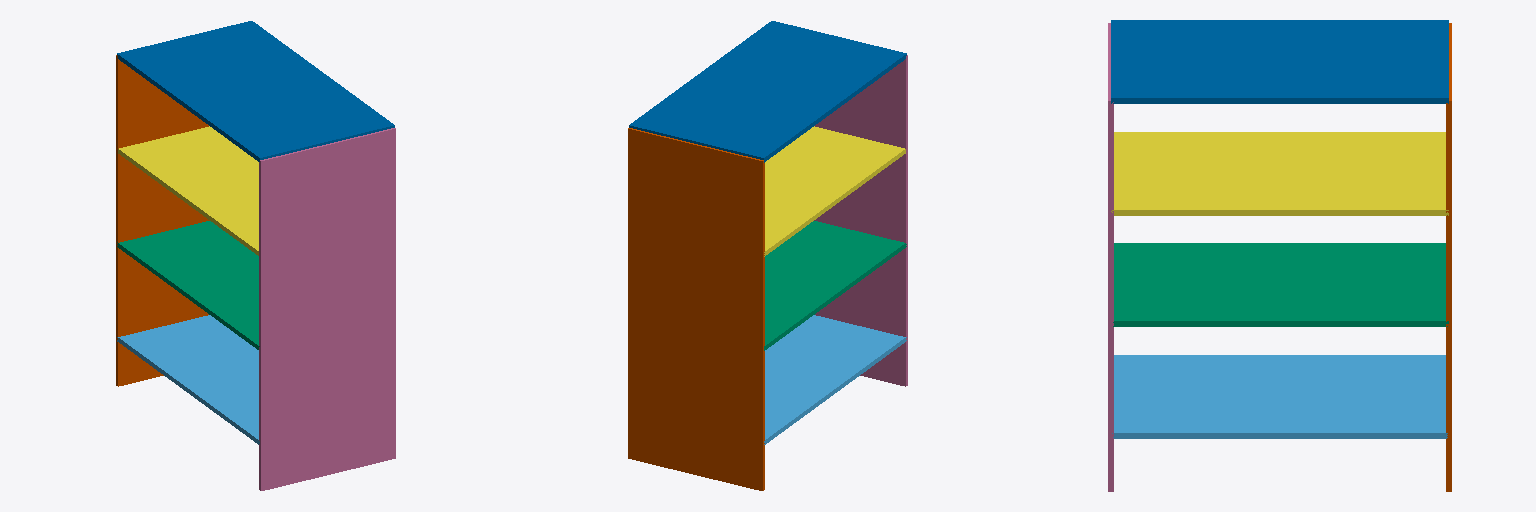
The robot description file, URDF, robot "bookshelves":
<robot name="bookshelves">
  <link name="world"/>
  <link name="bookshelf_bottom">
    <visual>
      <geometry>
        <box size="0.3 0.55 0.01"/>
      </geometry>
      <origin xyz="0.2375 0.0 0.05" rpy="0 0 0"/>
    </visual>
    <collision>
    <origin xyz="0.2375 0.0 0.05" rpy="0 0 0"/>
      <geometry>
        <box size="0.3 0.55 0.01"/>
      </geometry>
    </collision>
  </link>
  <joint name="bookshelf_bottom_joint" type="fixed">
    <parent link="world"/>
    <child link="bookshelf_bottom"/>
    <origin xyz="0.2375 0.0 0.05" rpy="0 0 0"/>
  </joint>
  <link name="bookshelf_shelf1">
    <visual>
      <geometry>
        <box size="0.3 0.55 0.01"/>
      </geometry>
      <origin xyz="0.2375 0.0 0.15" rpy="0 0 0"/>
    </visual>
    <collision>
    <origin xyz="0.2375 0.0 0.15" rpy="0 0 0"/>
      <geometry>
        <box size="0.3 0.55 0.01"/>
      </geometry>
    </collision>
  </link>
  <joint name="bookshelf_shelf1_joint" type="fixed">
    <parent link="world"/>
    <child link="bookshelf_shelf1"/>
    <origin xyz="0.2375 0.0 0.15" rpy="0 0 0"/>
  </joint>
  <link name="bookshelf_shelf2">
    <visual>
      <geometry>
        <box size="0.3 0.55 0.01"/>
      </geometry>
      <origin xyz="0.2375 0.0 0.25" rpy="0 0 0"/>
    </visual>
    <collision>
    <origin xyz="0.2375 0.0 0.25" rpy="0 0 0"/>
      <geometry>
        <box size="0.3 0.55 0.01"/>
      </geometry>
    </collision>
  </link>
  <joint name="bookshelf_shelf2_joint" type="fixed">
    <parent link="world"/>
    <child link="bookshelf_shelf2"/>
    <origin xyz="0.2375 0.0 0.25" rpy="0 0 0"/>
  </joint>
  <link name="bookshelf_top">
    <visual>
      <geometry>
        <box size="0.3 0.55 0.01"/>
      </geometry>
      <origin xyz="0.2375 0.0 0.35" rpy="0 0 0"/>
    </visual>
    <collision>
    <origin xyz="0.2375 0.0 0.35" rpy="0 0 0"/>
      <geometry>
        <box size="0.3 0.55 0.01"/>
      </geometry>
    </collision>
  </link>
  <joint name="bookshelf_top_joint" type="fixed">
    <parent link="world"/>
    <child link="bookshelf_top"/>
    <origin xyz="0.2375 0.0 0.35" rpy="0 0 0"/>
  </joint>
  <link name="bookshelf_left_wall">
    <visual>
      <geometry>
        <box size="0.3 0.01 0.7"/>
      </geometry>
      <origin xyz="0.2375 0.1375 0.175" rpy="0 0 0"/>
    </visual>
    <collision>
    <origin xyz="0.2375 0.1375 0.175" rpy="0 0 0"/>
      <geometry>
        <box size="0.3 0.01 0.7"/>
      </geometry>
    </collision>
  </link>
  <joint name="bookshelf_left_wall_joint" type="fixed">
    <parent link="world"/>
    <child link="bookshelf_left_wall"/>
    <origin xyz="0.2375 0.1375 0.175" rpy="0 0 0"/>
  </joint>
  <link name="bookshelf_right_wall">
    <visual>
      <geometry>
        <box size="0.3 0.01 0.7"/>
      </geometry>
      <origin xyz="0.2375 -0.1375 0.175" rpy="0 0 0"/>
    </visual>
    <collision>
    <origin xyz="0.2375 -0.1375 0.175" rpy="0 0 0"/>
      <geometry>
        <box size="0.3 0.01 0.7"/>
      </geometry>
    </collision>
  </link>
  <joint name="bookshelf_right_wall_joint" type="fixed">
    <parent link="world"/>
    <child link="bookshelf_right_wall"/>
    <origin xyz="0.2375 -0.1375 0.175" rpy="0 0 0"/>
  </joint>
</robot>

--- What the picture shows (computed from the rendered views, not written in the file) ---
The picture shows the robot from 3 angles, left to right: view 1: azimuth 30°, elevation 25°; view 2: azimuth 150°, elevation 25°; view 3: azimuth 270°, elevation 25°; orthographic projection.
Robot: bookshelves — 7 links, 6 joints (6 fixed); root link world; default pose: every joint at zero.
Links seen in each view (by area): view 1: bookshelf_right_wall, bookshelf_top, bookshelf_left_wall, bookshelf_bottom, bookshelf_shelf1, bookshelf_shelf2; view 2: bookshelf_left_wall, bookshelf_top, bookshelf_right_wall, bookshelf_shelf1, bookshelf_bottom, bookshelf_shelf2; view 3: bookshelf_top, bookshelf_shelf2, bookshelf_bottom, bookshelf_shelf1, bookshelf_right_wall, bookshelf_left_wall.
Boxes of the visible links, x1,y1,x2,y2 form: bookshelf_right_wall: (259, 128, 395, 490); bookshelf_top: (117, 21, 394, 161); bookshelf_left_wall: (116, 55, 209, 386); bookshelf_bottom: (117, 315, 259, 444); bookshelf_shelf1: (117, 221, 259, 349); bookshelf_shelf2: (118, 126, 258, 255); bookshelf_left_wall: (628, 128, 764, 490); bookshelf_top: (629, 21, 906, 162); bookshelf_right_wall: (814, 55, 907, 386); bookshelf_shelf1: (764, 221, 906, 350); bookshelf_bottom: (764, 315, 906, 444); bookshelf_shelf2: (764, 126, 905, 256); bookshelf_top: (1111, 20, 1448, 103); bookshelf_shelf2: (1111, 132, 1448, 215); bookshelf_bottom: (1112, 355, 1447, 438); bookshelf_shelf1: (1113, 243, 1448, 326); bookshelf_right_wall: (1108, 23, 1113, 491); bookshelf_left_wall: (1446, 23, 1451, 491).
Size in the robot's own frame: 0.3 by 0.56 by 0.705 metres.
Geometry: primitives only (box / cylinder / sphere), no mesh files.